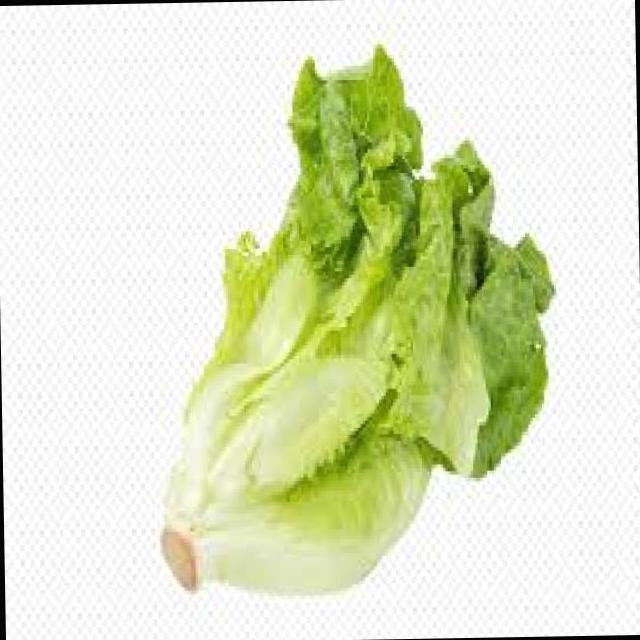Lettuce-Ready-to-Harvest: (161, 46, 552, 593)
